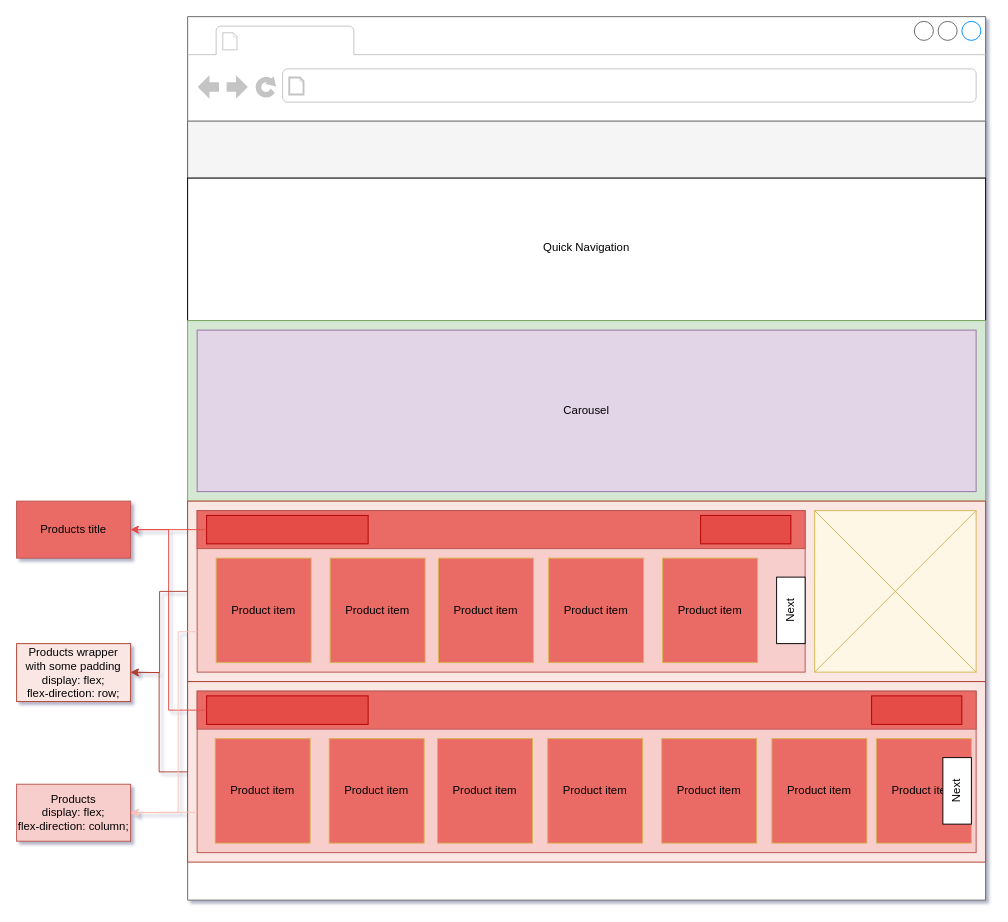
This 1008x922 diagram has some shape labels left out. Here are the shapes that lost their labels. From the top down, the box of each, then its label:
(244, 27, 349, 53): Page 1
(310, 73, 549, 98): https://www.draw.io/flipcart/
(187, 120, 986, 178): Navbar
(814, 510, 976, 672): ad-banner
